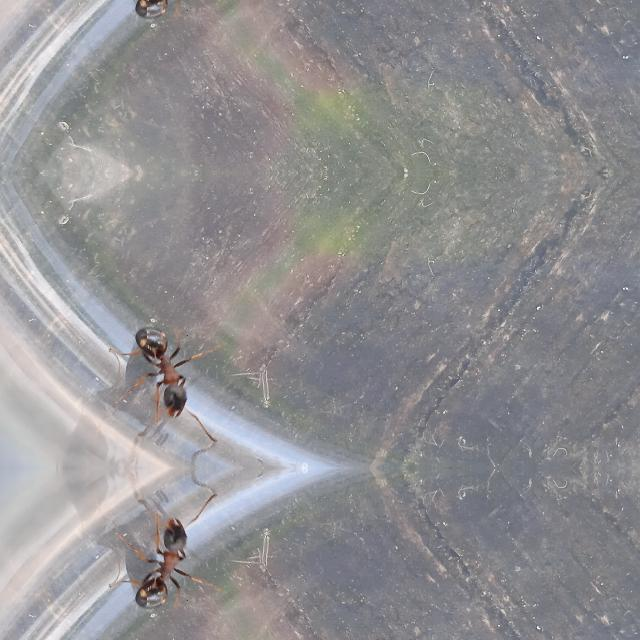Dolichoderus: (97, 317, 226, 427), (97, 507, 226, 617), (95, 0, 224, 26)
